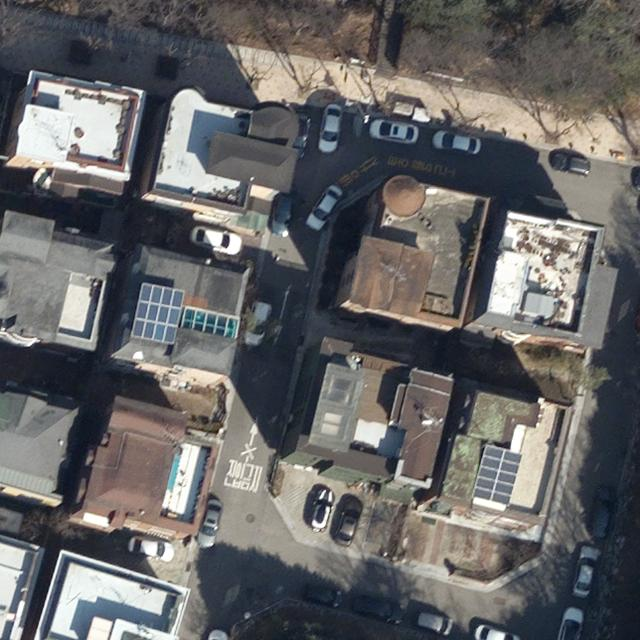panel: (128, 281, 186, 344), (471, 442, 525, 507)
